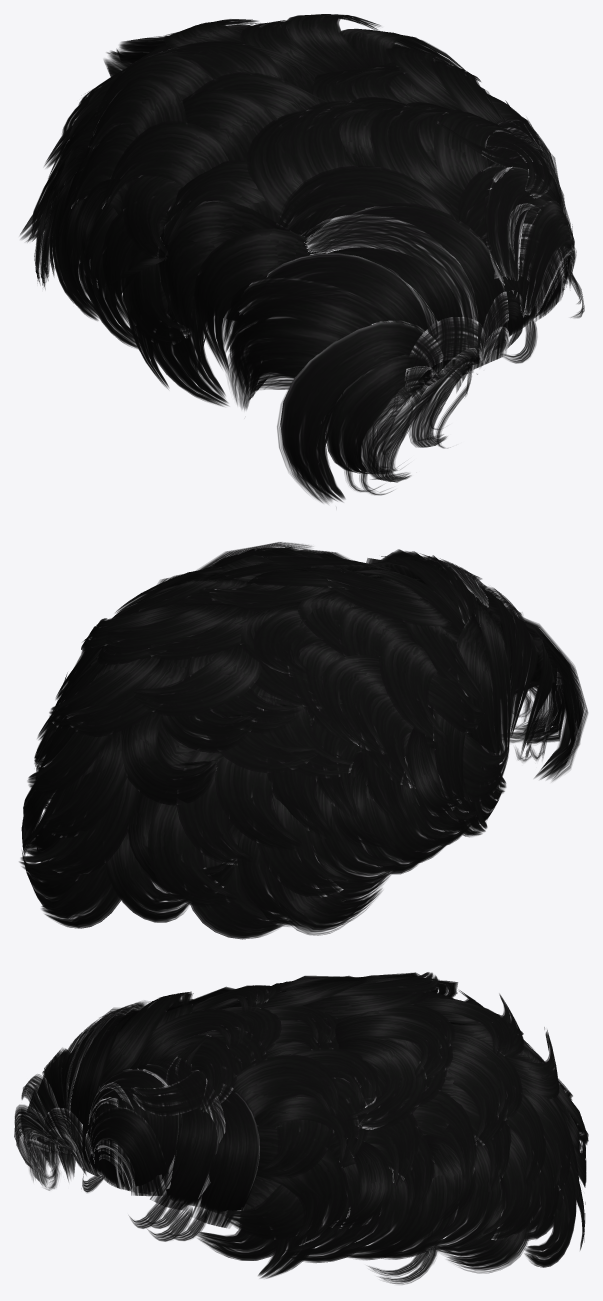
File: Oblong_Wavy_TaperFade.glb
The picture shows the model from 3 angles, top to bottom: view 1: azimuth 30°, elevation 25°; view 2: azimuth 150°, elevation 25°; view 3: azimuth 270°, elevation 25°; orthographic projection. The views are drawn at different scales.
Visible parts, largest first — view 1: s4studio_mesh_4001; view 2: s4studio_mesh_4001; view 3: s4studio_mesh_4001.
Part boxes in pixels (<box>): s4studio_mesh_4001: <box>20,14,584,503</box>; s4studio_mesh_4001: <box>19,542,588,939</box>; s4studio_mesh_4001: <box>14,972,588,1284</box>.
Bounding box in the file's own units: 0.1566 × 0.1062 × 0.2281.
1 material, 1 textured.
